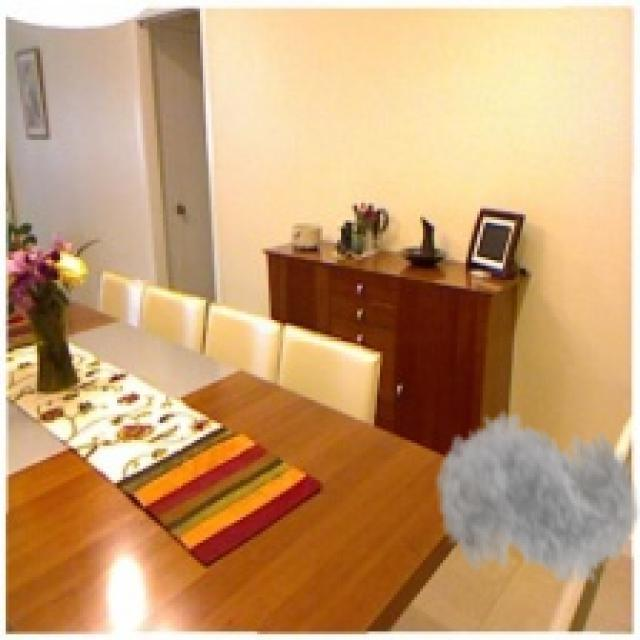Smoke: (434, 394, 637, 612)
